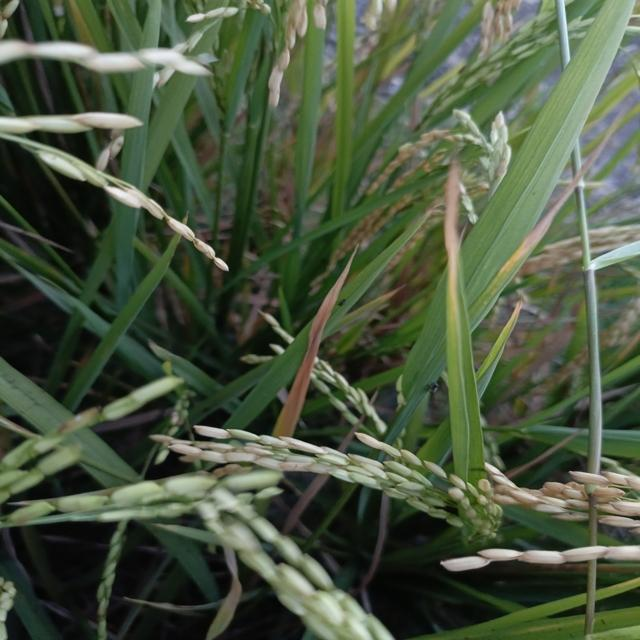Brown spot: (247, 261, 378, 431), (432, 149, 490, 312)
